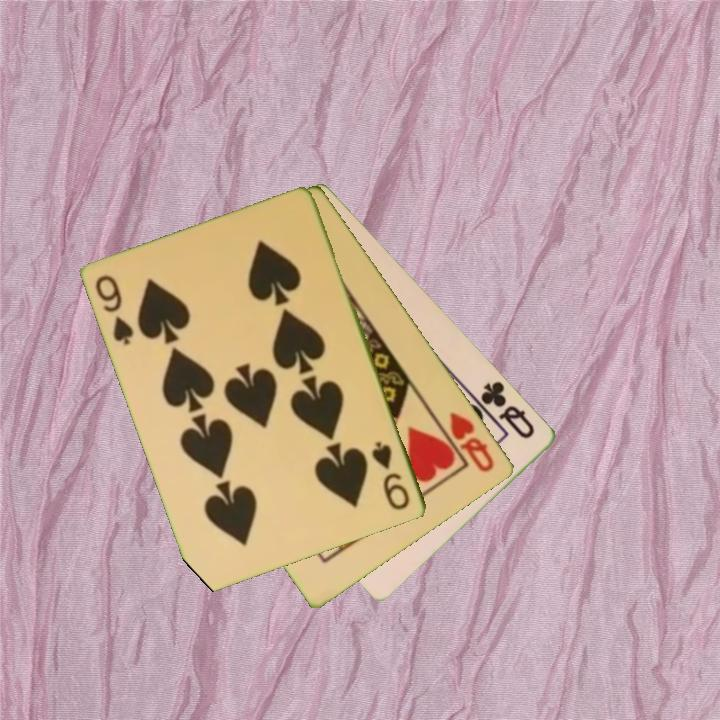9s: (92, 271, 137, 348), (369, 438, 413, 514)
Qc: (477, 377, 539, 442)
Qh: (446, 408, 498, 476)
